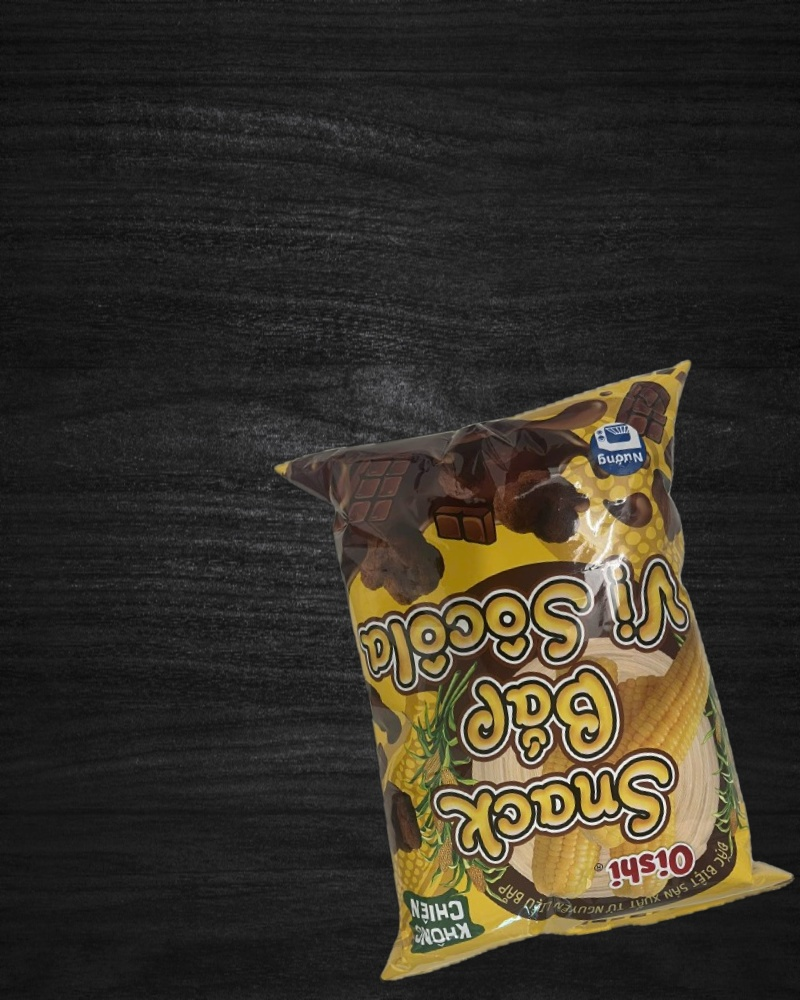Snack socola: (270, 360, 800, 984)
